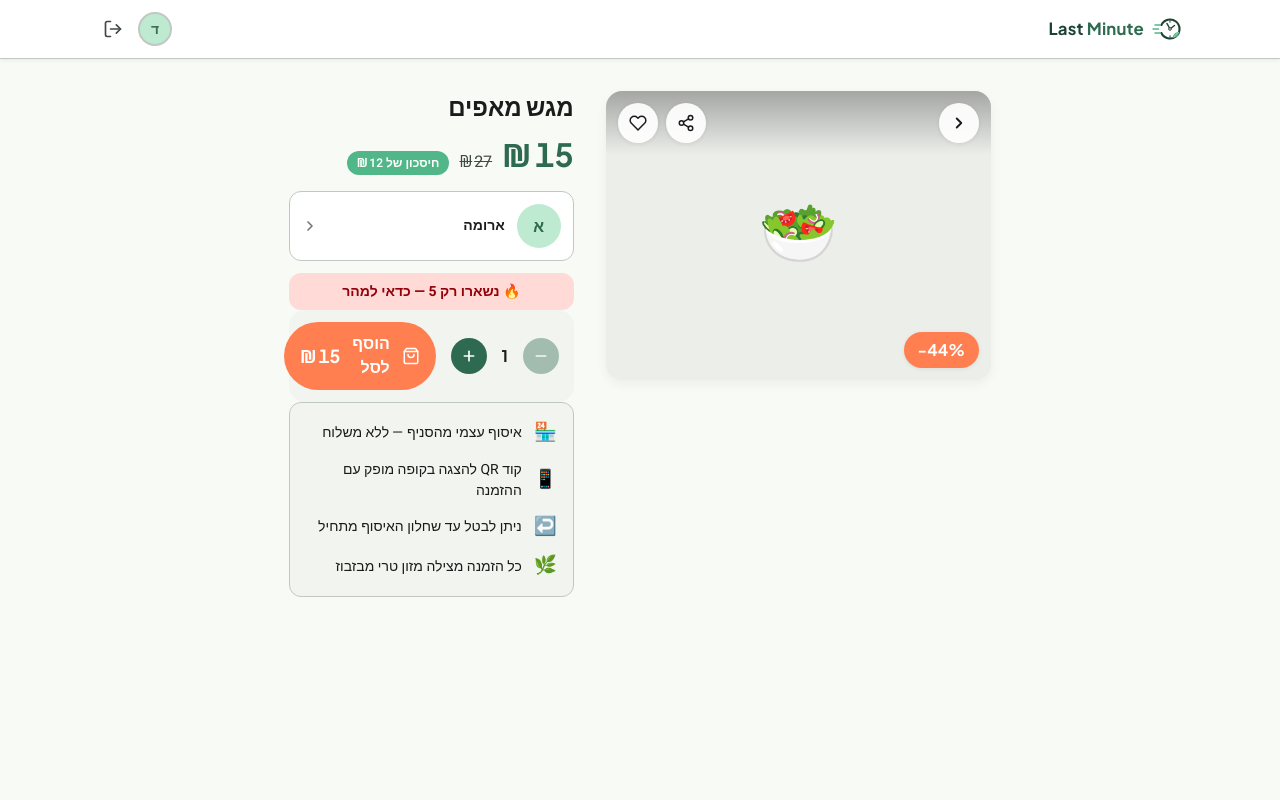
Product page — favorite + add to cart › toggles the favorite via saved_deals (optimistic)
Click the button named "שמור" at (638, 123), box [618,103,658,143]
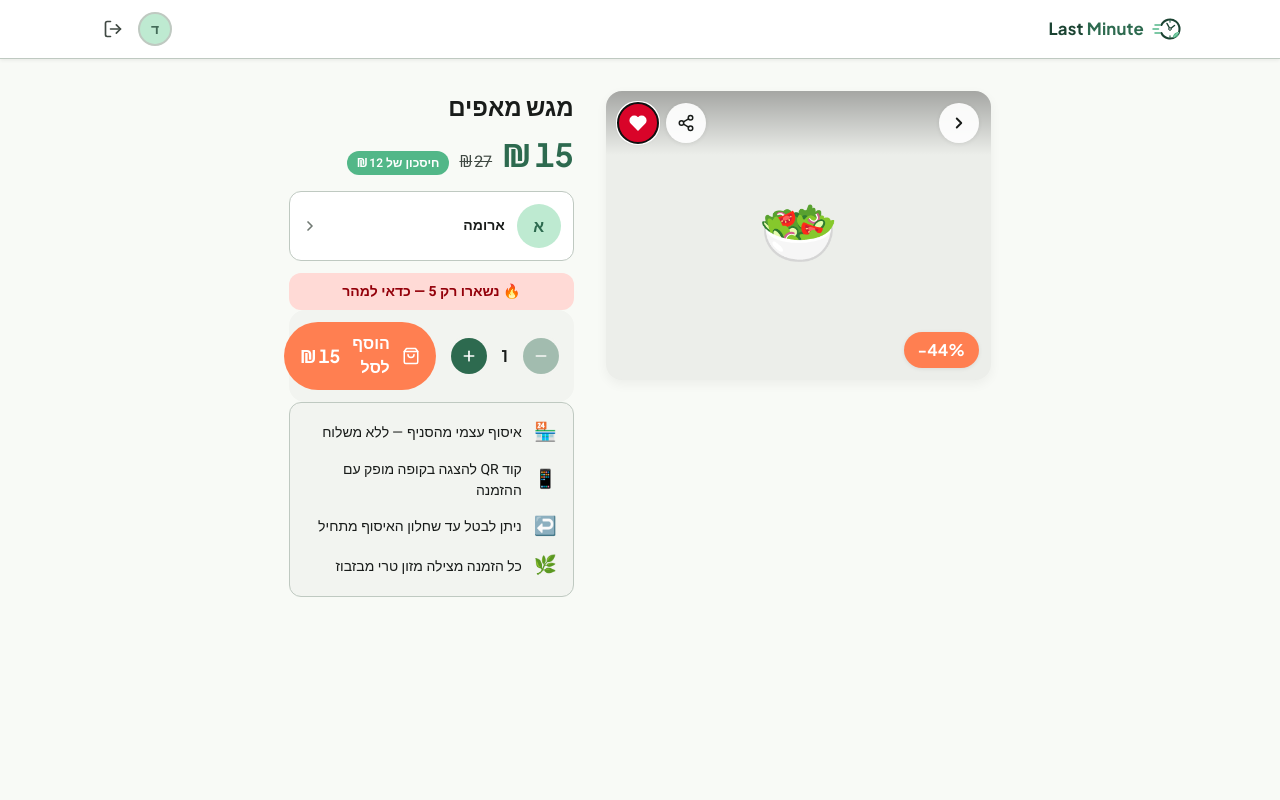
Result: the button named "הסר משמורים" is shown at [618,103,658,143]
